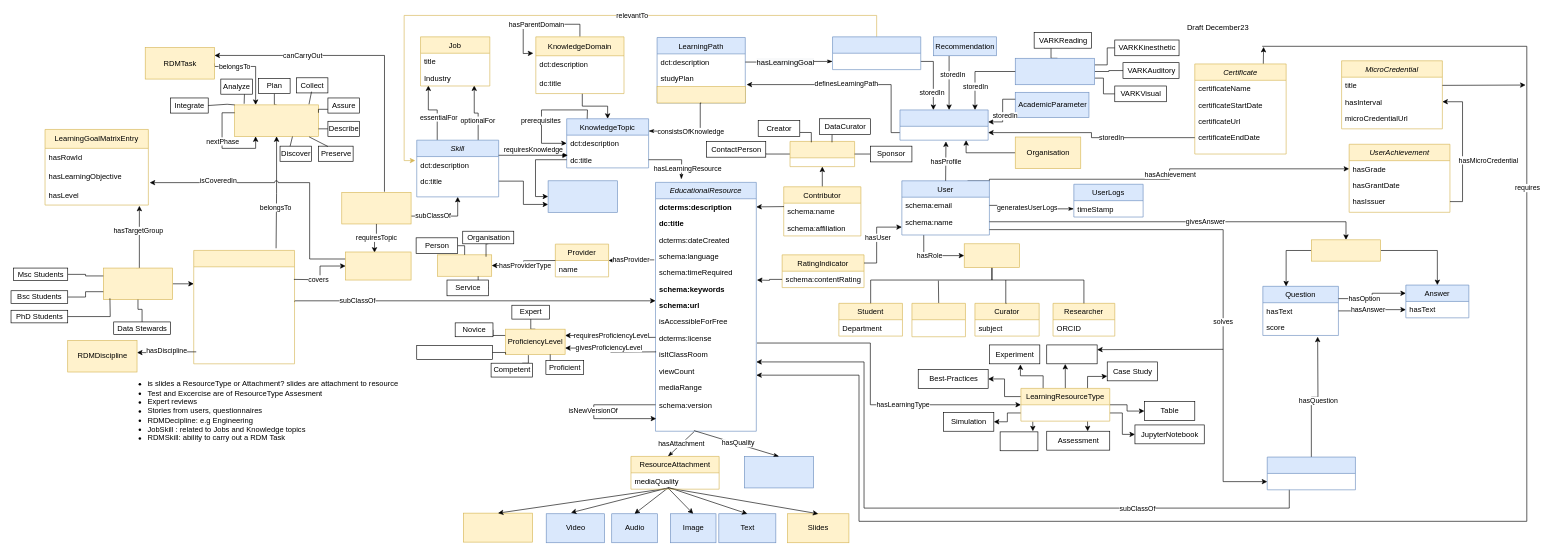
This 1550x554 diagram has some shape labels left out. The centre of each missing label's shape, as x and y in pixels:
"Advanced Beginner" goes at point (454, 352).
"Code/Script" goes at point (498, 527).
"ContentQuality" goes at point (779, 472).
"ContributorType" goes at point (822, 154).
"DataLifeCyclePhase" goes at point (276, 120).
"Excercise" goes at point (1311, 473).
"LearningGoal" goes at point (876, 53).
"LearningOutcome" goes at point (582, 196).
"LearningPreference" goes at point (1055, 71).
"Lecture" goes at point (1018, 441).
"OrderOfTopics:RDFlist" goes at point (700, 94).
"Provider_type" goes at point (464, 265).
"Questionnaire" goes at point (1071, 354).
"RDMResource" goes at point (244, 307).
"RDMSkill" goes at point (376, 208).
"RDMTopic" goes at point (378, 265).
"TargetGroup" goes at point (138, 283).
"Teacher" goes at point (938, 320).
"UserAnswer" goes at point (1346, 250).
"UserProfile" goes at point (943, 124).
"UserRole" goes at point (992, 255).
